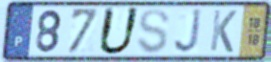7: (69, 7, 101, 56)
8: (34, 8, 62, 55)
J: (173, 7, 204, 55)
K: (208, 9, 239, 55)
S: (135, 7, 171, 55)
U: (96, 6, 142, 57)
